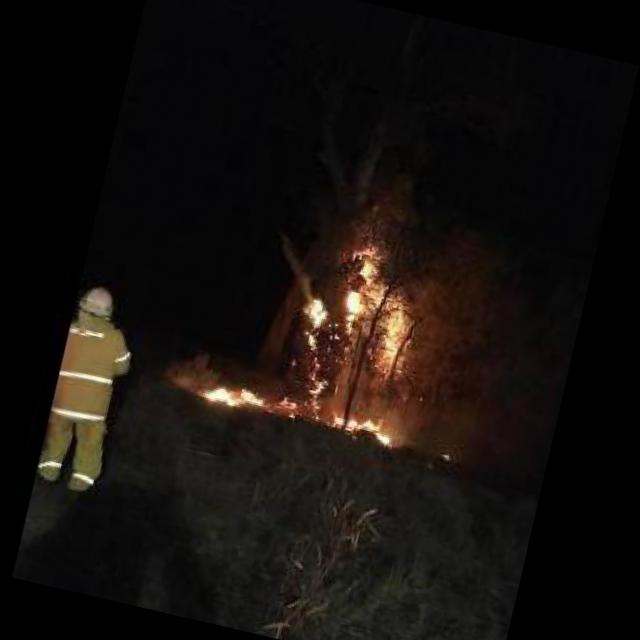fire: (200, 203, 450, 453)
